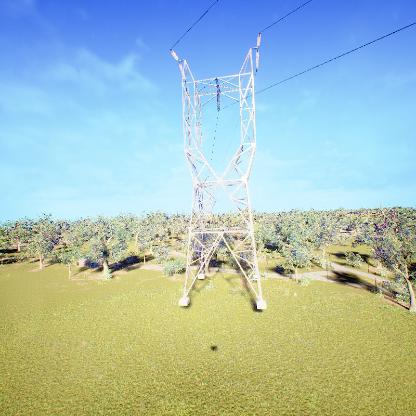tower: (169, 28, 270, 310)
